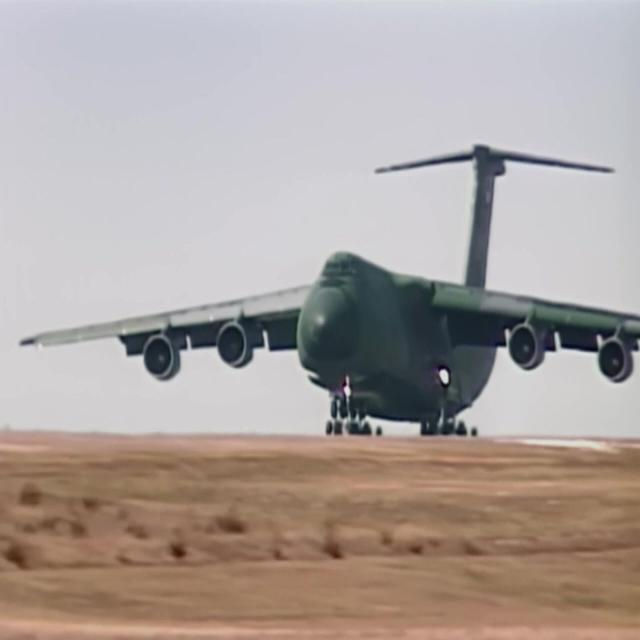C5: (25, 118, 640, 471)
